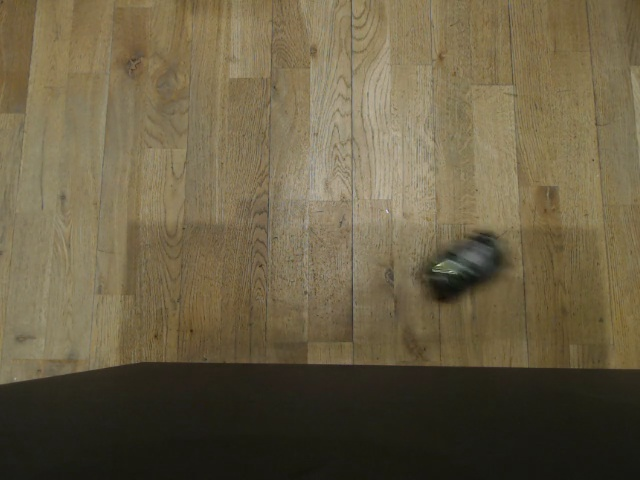beer: (420, 222, 510, 306)
